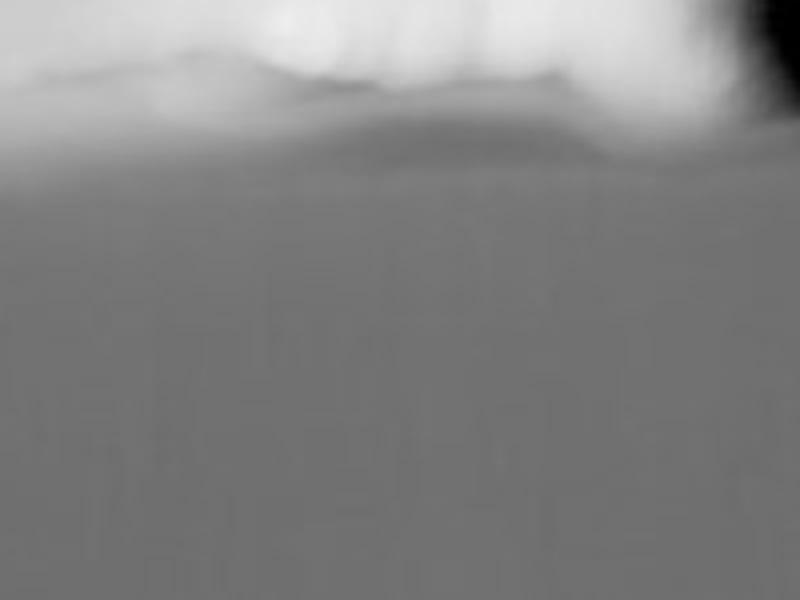defect: (747, 1, 800, 112)
